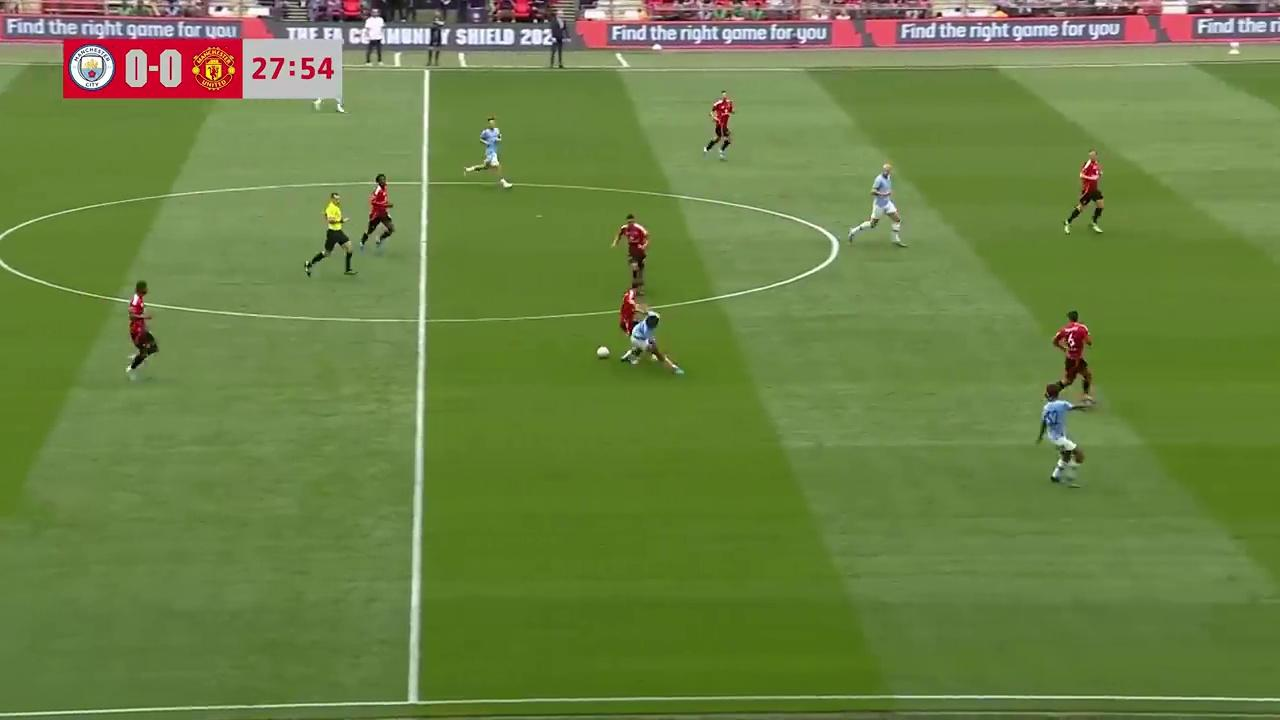ball: (594, 343, 610, 359)
player: (618, 292, 686, 374), (1034, 380, 1085, 484), (851, 163, 905, 246), (1052, 310, 1097, 406), (1062, 149, 1105, 235), (124, 280, 158, 381), (464, 115, 509, 186), (358, 173, 396, 255), (611, 212, 649, 286), (616, 281, 649, 359), (703, 90, 735, 160)
referee: (304, 192, 357, 277)
